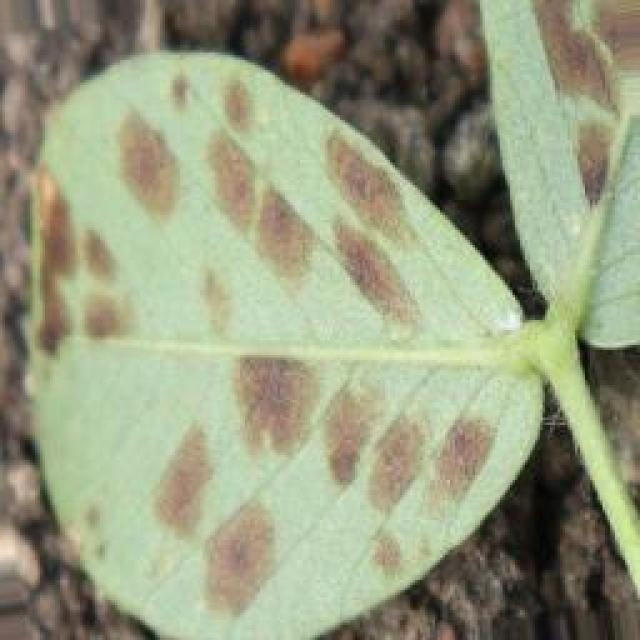Whitefly: (25, 25, 640, 619)
